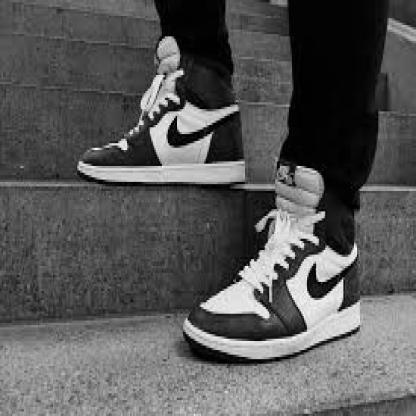ankle: (332, 230, 337, 241), (205, 82, 209, 87)
heel: (347, 299, 356, 314), (240, 154, 243, 160)
left_foot: (187, 182, 362, 361)
pinky: (229, 330, 239, 338), (97, 149, 100, 153)
right_foot: (78, 68, 248, 184)
toe: (196, 305, 206, 313), (95, 161, 99, 166)
